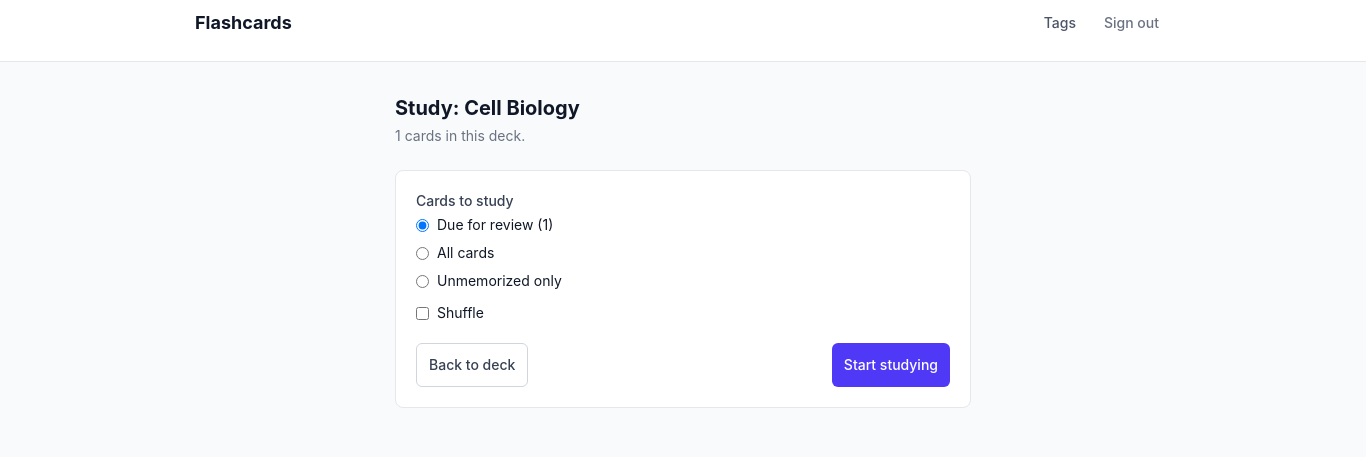
Test: unmemorized-only with no unmemorized cards disables start and explains
The width and height of the screenshot is (1366, 457).
Click the radio button labelled "Unmemorized only" at (422, 281), box [416,274,429,288]
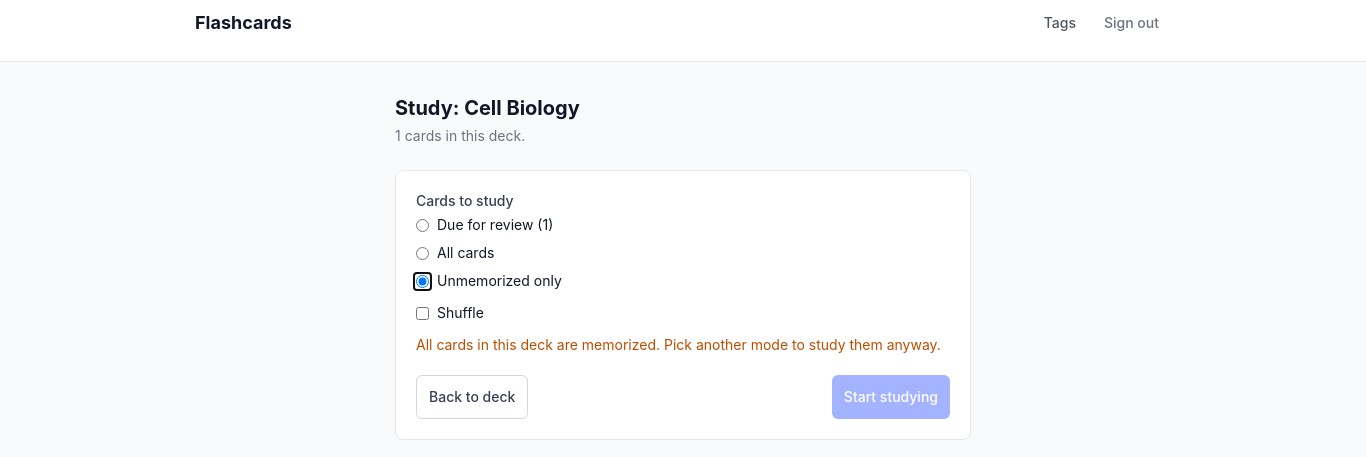
Expected: the text "All cards in this deck are memorized" is shown, [416,336,941,353]
Expected: the button "Start studying" is disabled, [832,375,950,419]
